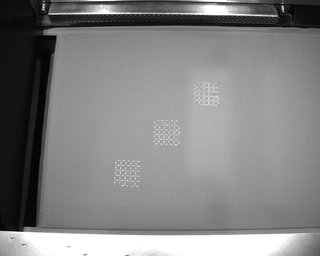defects: (213, 81, 220, 107), (112, 184, 142, 187), (137, 161, 142, 167), (194, 82, 198, 86), (154, 119, 158, 123), (194, 102, 197, 106)
